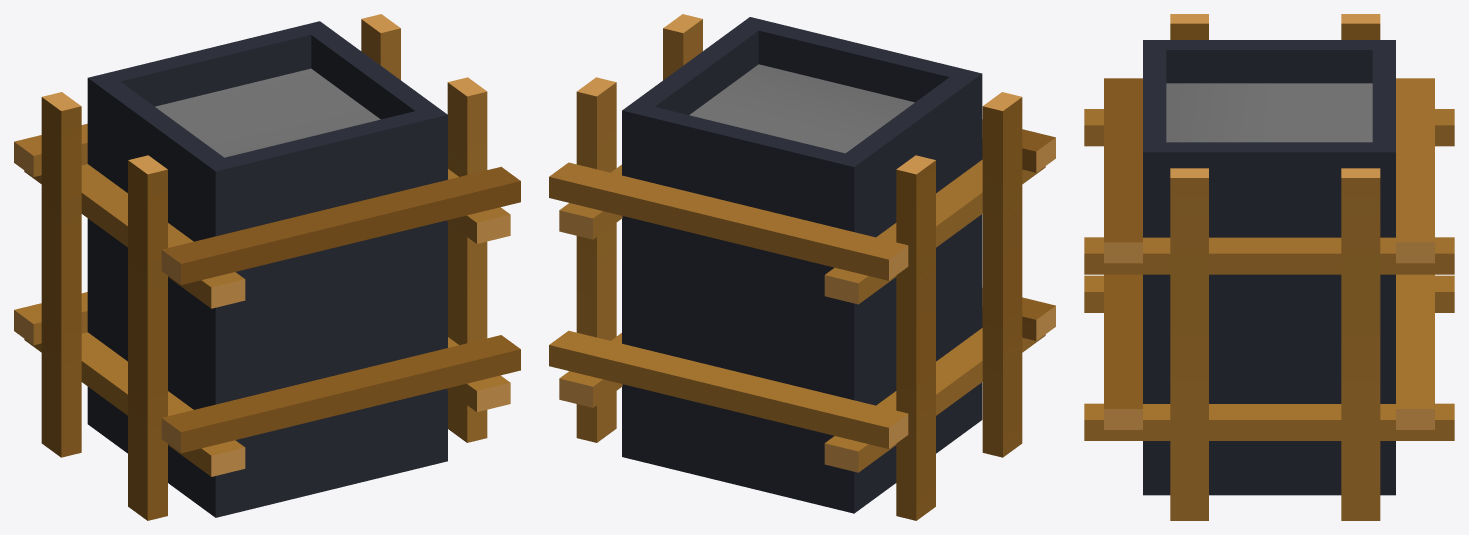
File: ConcrateFrame_2_3.fbx
3 views of the same model, side by side, from view 1: azimuth 30°, elevation 25°; view 2: azimuth 150°, elevation 25°; view 3: azimuth 270°, elevation 25° (orthographic).
Visible parts, largest first — view 1: ConcrateFrame_2_3; view 2: ConcrateFrame_2_3; view 3: ConcrateFrame_2_3.
Boxes of the visible parts, x1,y1,x2,y2 form: ConcrateFrame_2_3: [14, 14, 520, 520]; ConcrateFrame_2_3: [549, 14, 1055, 520]; ConcrateFrame_2_3: [1084, 14, 1454, 520].
Size of the model in its own units: 148 by 144 by 141.
